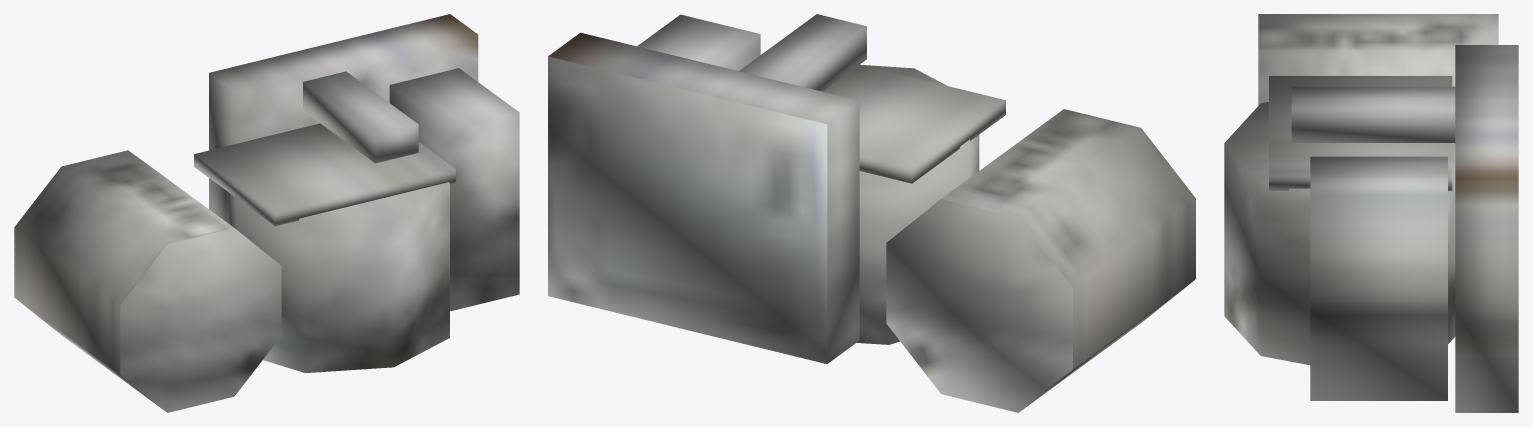
The model's file is wrist_pitch_yaw.dae.
The picture shows the model from 3 angles, left to right: view 1: azimuth 30°, elevation 25°; view 2: azimuth 150°, elevation 25°; view 3: azimuth 270°, elevation 25°; orthographic projection. The views are drawn at different scales.
Parts seen in each view (by area): view 1: 29 DEXTRE.008; view 2: 29 DEXTRE.008; view 3: 29 DEXTRE.008.
Boxes of the visible parts, x1,y1,x2,y2 form: 29 DEXTRE.008: (14, 14, 519, 412); 29 DEXTRE.008: (548, 14, 1195, 412); 29 DEXTRE.008: (1224, 14, 1518, 412).
Size of the model in its own units: 0.7049 by 0.357 by 0.3297.
1 material, 1 textured.
